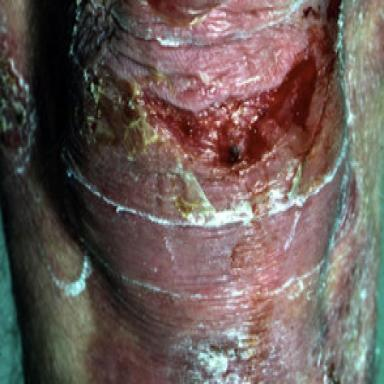Epidermolysis-Bullosa-Pruriginosa: (44, 1, 384, 381), (0, 8, 39, 178)
